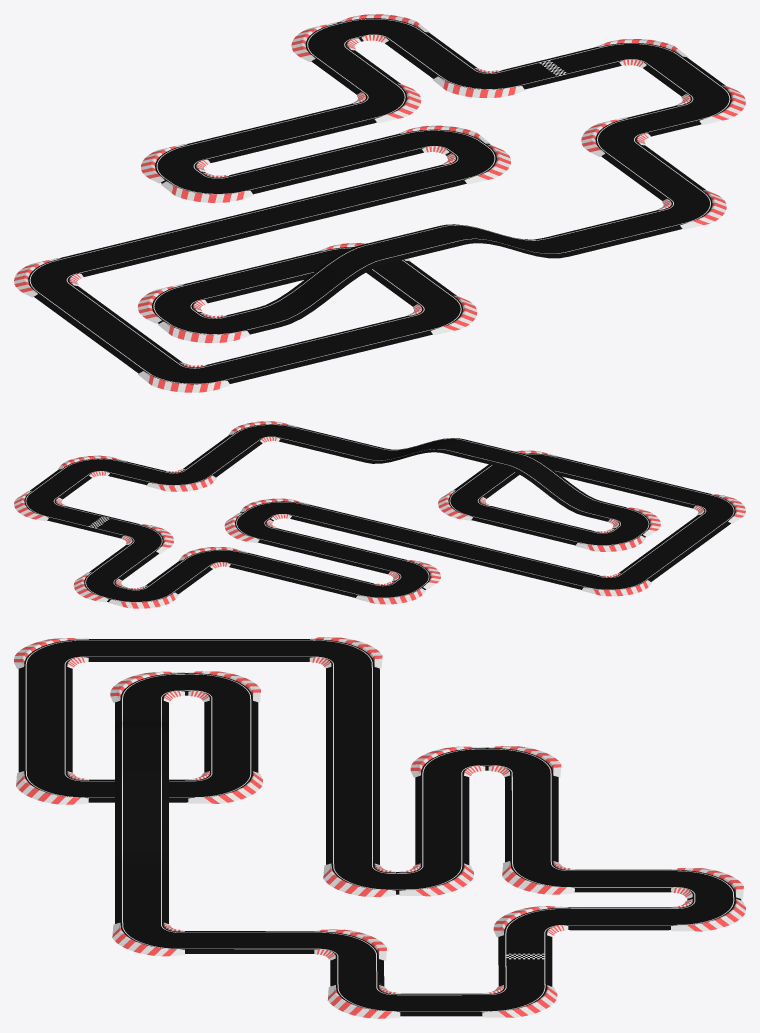
File: racetrack.fbx
3 views of the same model, one above another, from view 1: azimuth 30°, elevation 25°; view 2: azimuth 150°, elevation 25°; view 3: azimuth 270°, elevation 25° (orthographic). The views are drawn at different scales.
Parts seen in each view (by area): view 1: cesta; view 2: cesta; view 3: cesta.
Boxes of the visible parts, x1,y1,x2,y2 form: cesta: (14, 14, 745, 392); cesta: (14, 421, 745, 608); cesta: (14, 637, 745, 1018).
Size of the model in its own units: 16744 by 854 by 13583.
